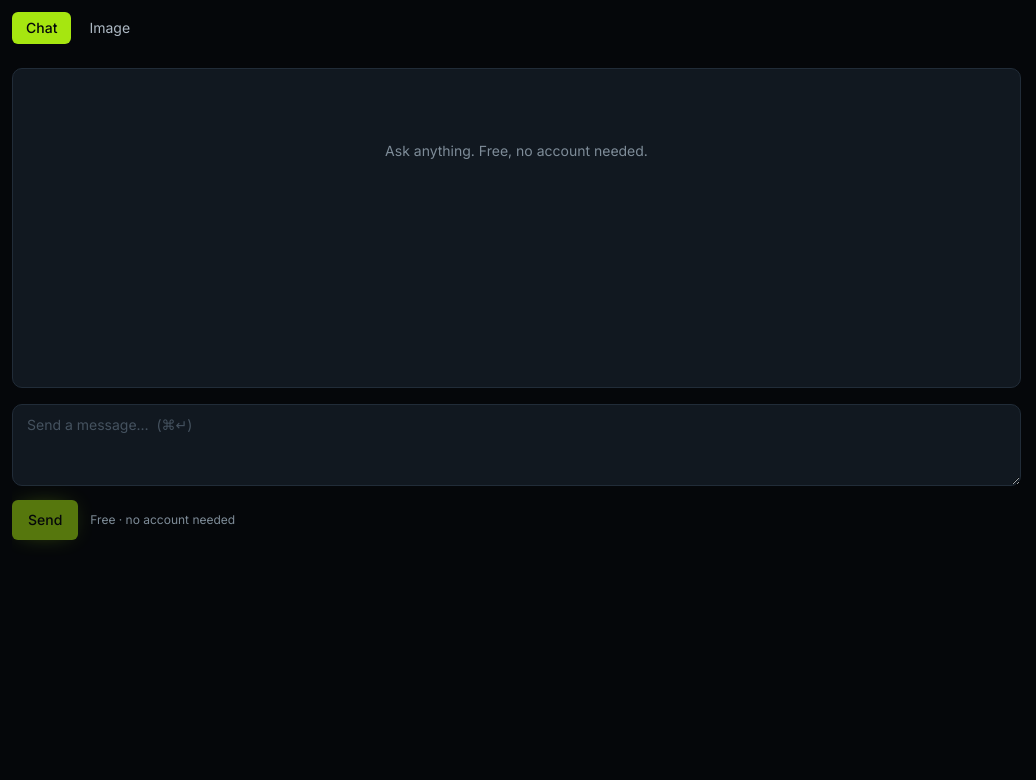
Test: chat is open to anyone › surfaces the rate limit as a readable message, not a crash
Type "hi" into the text box named "Prompt" at [516, 445], box [12,404,1021,486]
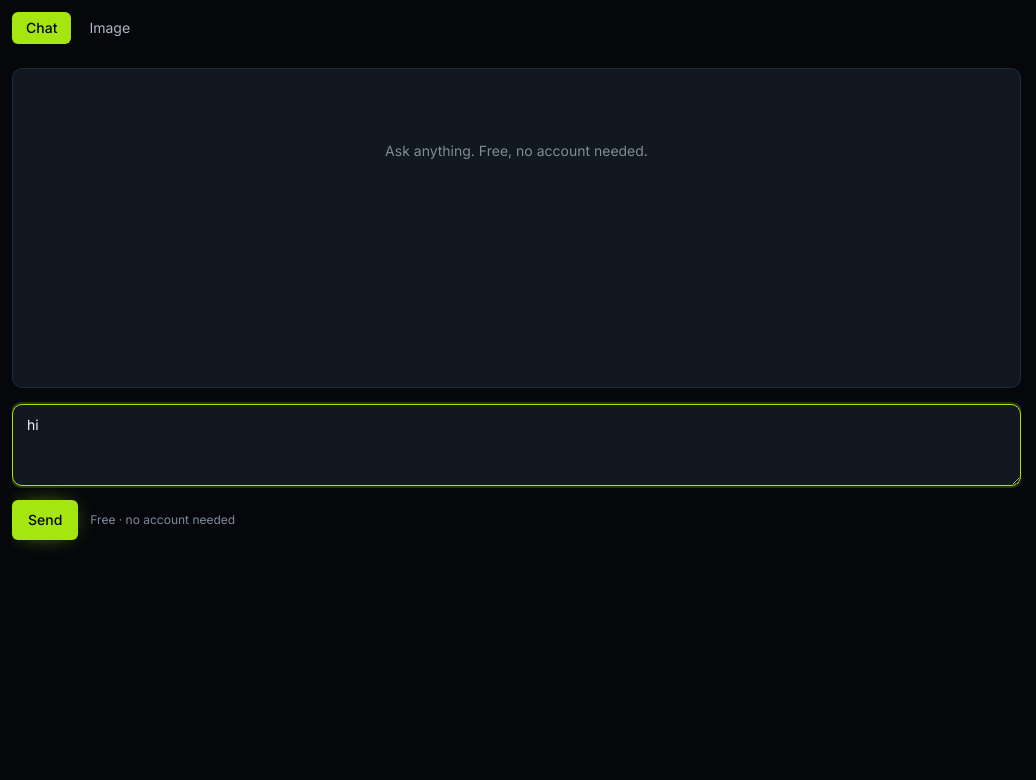
Click the button "Send" at [45, 520], box [12,500,78,540]
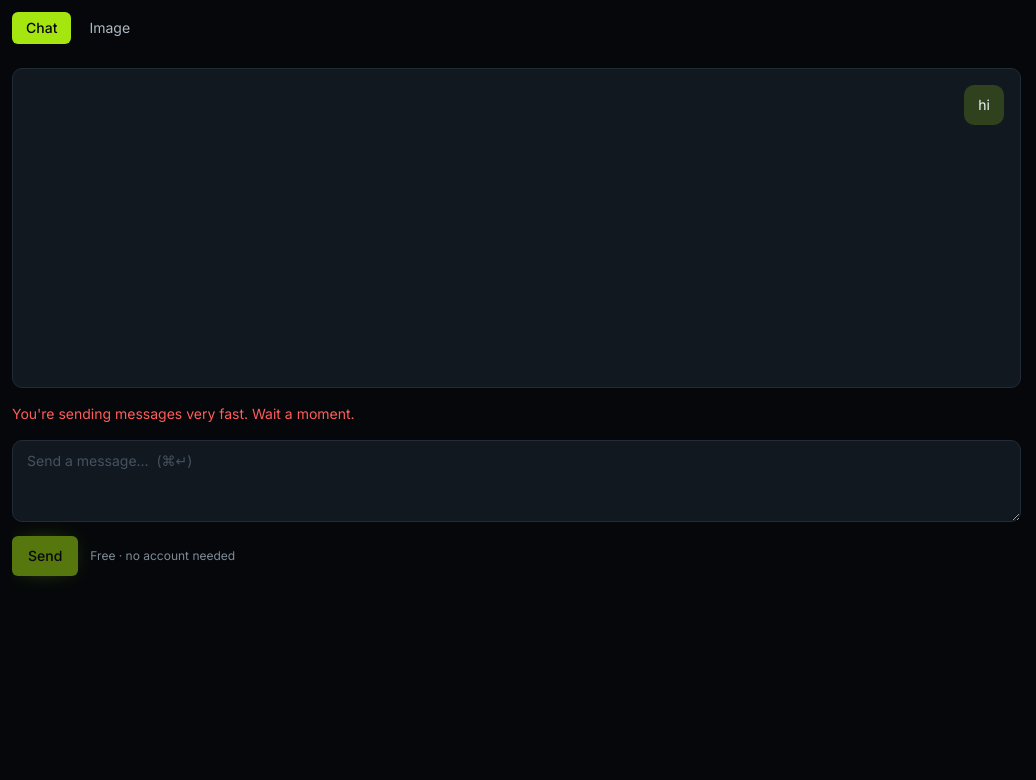
Check: the message shows "very fast", box [12,405,355,422]
